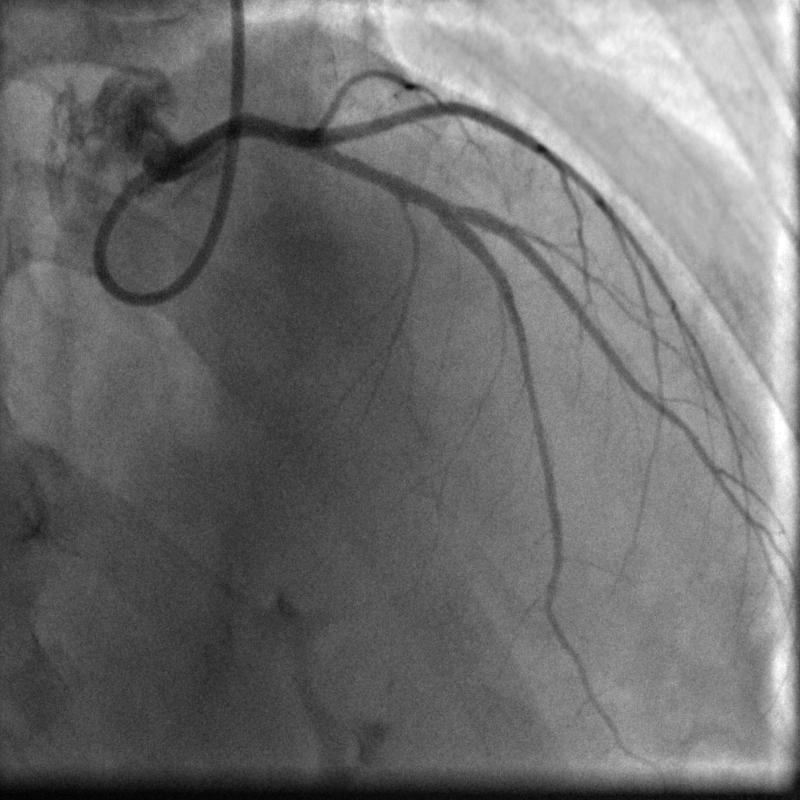Stenosis: (429, 187, 451, 229)
